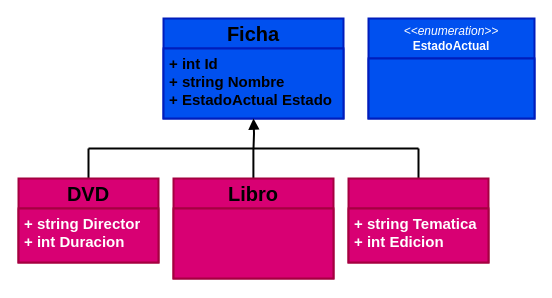
Image size: 552x298. Some labels were removed from this diagram. The shapes that lost their labels are listed below. From the top down, each one's box as (x1, y1, x2, y2) in pixels, then its label:
(367, 57, 535, 119): DISPONIBLE PRESTADO EN REPARACIÓN
(347, 177, 489, 263): Revista
(172, 207, 334, 279): + string Autor + int ISBN + int NumeroPaginas
